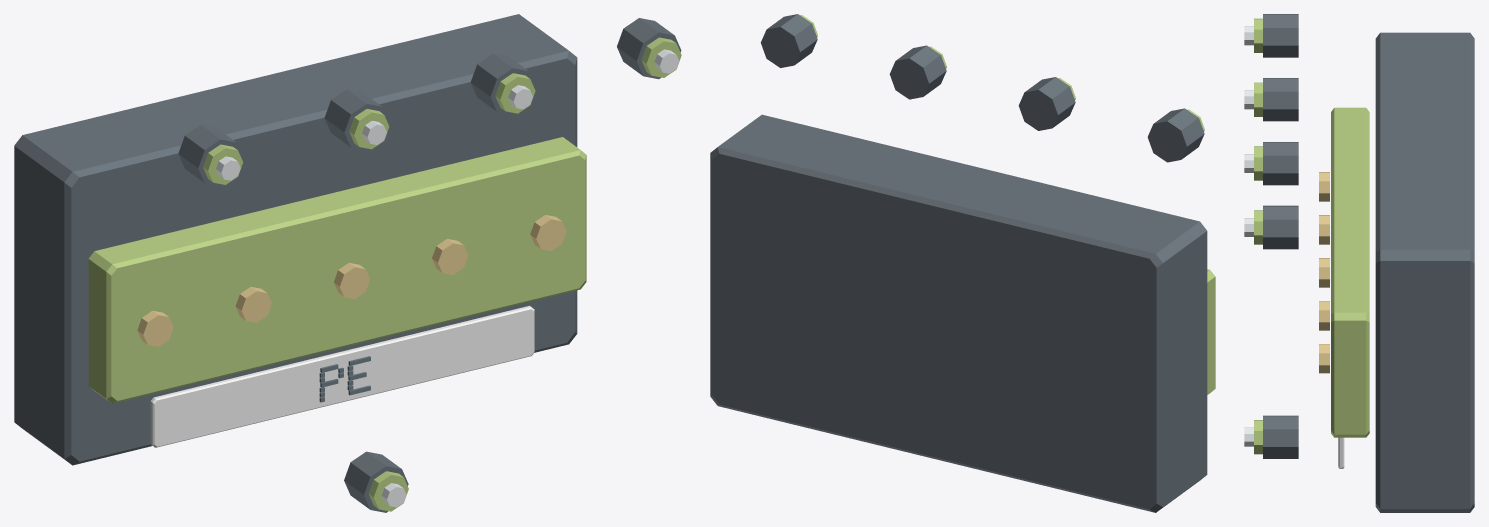
Rendered from earthBar.glb.
3 renders of one model, left to right at view 1: azimuth 30°, elevation 25°; view 2: azimuth 150°, elevation 25°; view 3: azimuth 270°, elevation 25°, orthographic. The views are drawn at different scales.
Parts seen in each view (by area): view 1: earthBar-board; view 2: earthBar-board; view 3: earthBar-board.
Boxes of the visible parts, x1=… form: earthBar-board: x1=14, y1=14, x2=681, y2=512; earthBar-board: x1=710, y1=14, x2=1215, y2=512; earthBar-board: x1=1244, y1=14, x2=1474, y2=512.
Size of the model in its own units: 2.36 by 1.69 by 0.9529.
